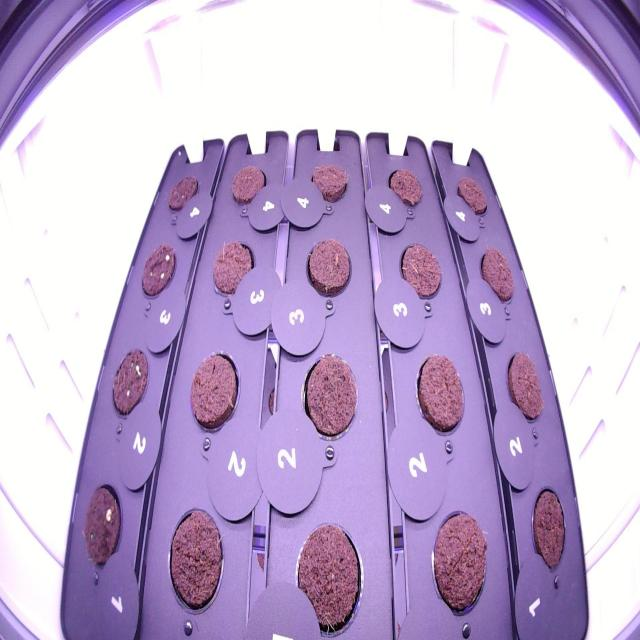pod: (286, 509, 367, 637), (426, 500, 491, 629), (162, 501, 228, 624), (296, 344, 363, 445), (184, 343, 243, 442), (410, 346, 469, 445), (525, 477, 572, 582), (78, 477, 127, 575), (502, 338, 548, 436), (394, 236, 445, 310), (106, 342, 152, 422), (302, 232, 355, 301), (208, 236, 258, 306), (301, 156, 352, 214), (137, 239, 179, 308), (476, 240, 518, 307), (382, 161, 425, 214), (452, 167, 492, 223), (227, 159, 268, 213), (164, 166, 202, 214)
